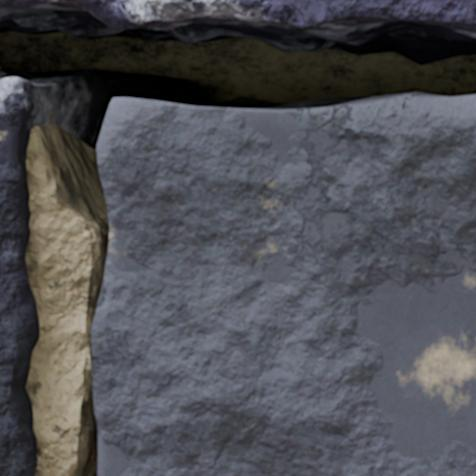brick: (92, 93, 475, 475), (0, 78, 38, 475), (68, 0, 475, 30), (0, 0, 54, 5)
crack: (0, 0, 475, 475)
